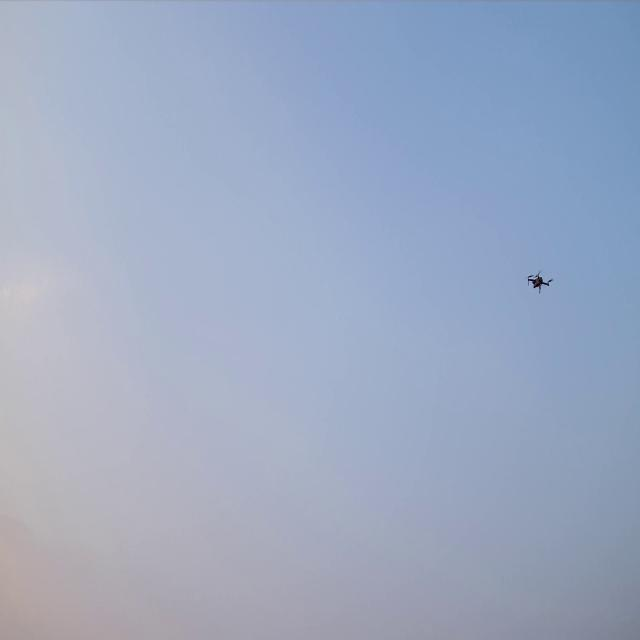UAV: (524, 268, 554, 295)
